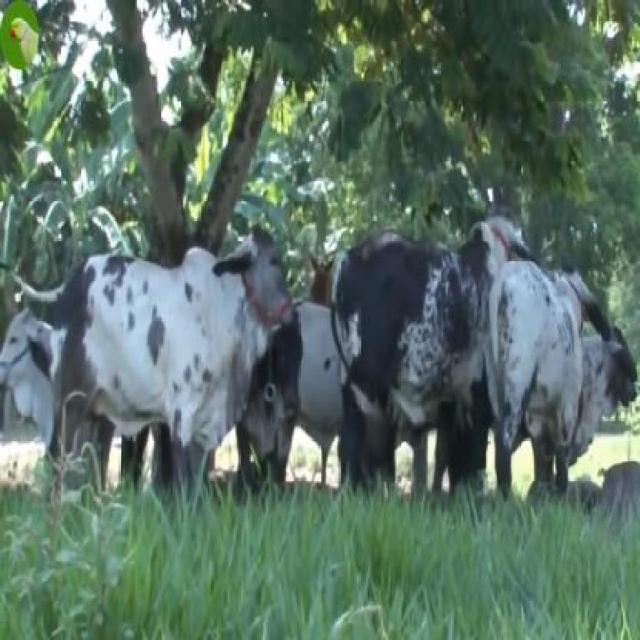Cow: (67, 225, 296, 520)
